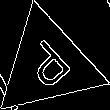P_SE: (17, 33, 78, 96)
